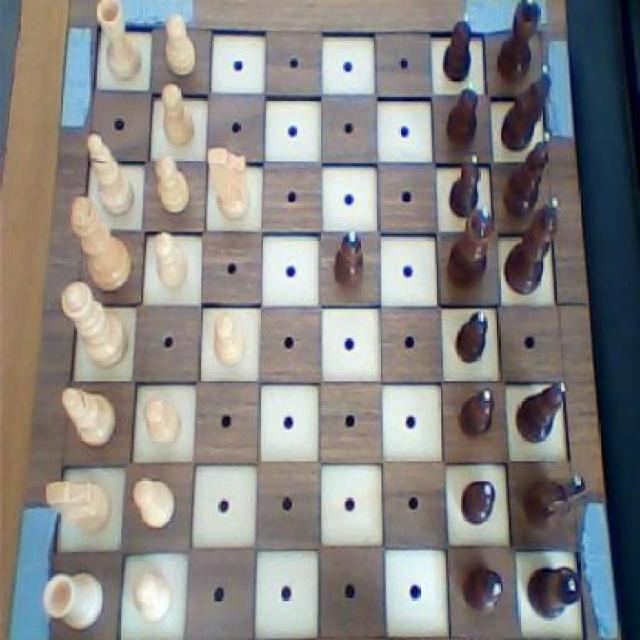bishop: (500, 130, 558, 222), (514, 375, 570, 448)
black-bishop: (503, 194, 565, 298)
black-king: (497, 62, 557, 154), (518, 468, 587, 540)
black-knight: (443, 80, 485, 152), (444, 150, 486, 222), (438, 9, 474, 90), (460, 563, 505, 622), (329, 226, 369, 292), (454, 386, 498, 445), (454, 306, 489, 367), (460, 478, 498, 527)
black-pawn: (444, 206, 498, 297)
black-queen: (489, 0, 542, 85), (522, 560, 586, 623)
black-rook: (85, 128, 137, 219), (58, 383, 120, 455)
white-bishop: (66, 191, 135, 292)
white-king: (42, 472, 116, 542), (203, 142, 256, 228)
white-knight: (126, 471, 182, 539), (149, 149, 195, 220), (156, 79, 198, 153), (151, 228, 194, 297), (206, 306, 250, 371), (131, 564, 175, 628), (142, 392, 186, 454), (162, 9, 200, 80)
white-pawn: (57, 278, 131, 371)
white-queen: (39, 566, 106, 634), (94, 0, 146, 83)
